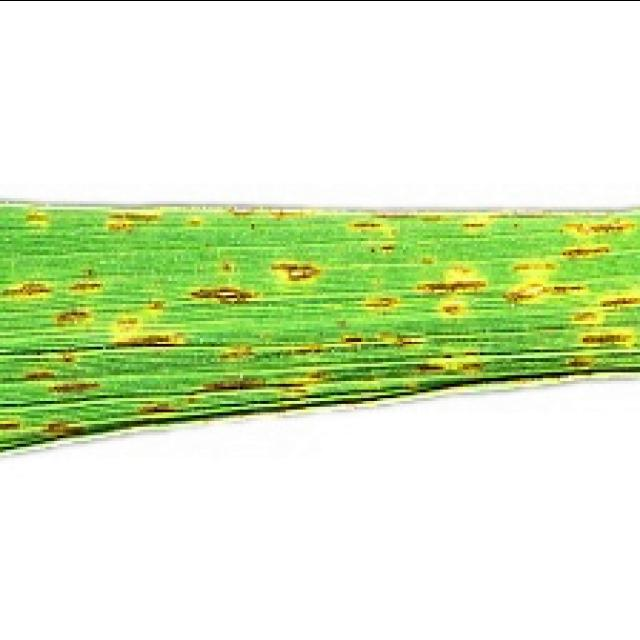Healthy: (422, 210, 441, 225)
Unhealthy: (501, 279, 588, 304), (416, 347, 481, 372), (270, 369, 329, 394), (564, 217, 637, 237), (184, 287, 258, 305), (204, 372, 267, 391), (113, 332, 183, 346), (414, 279, 484, 293), (271, 261, 321, 280), (108, 212, 158, 230), (578, 332, 634, 348), (39, 421, 87, 439), (561, 242, 611, 258), (379, 330, 427, 346), (597, 294, 640, 310), (3, 281, 50, 295), (54, 309, 90, 327), (50, 380, 99, 392), (137, 401, 182, 414), (561, 352, 595, 368), (363, 296, 397, 310), (268, 209, 313, 219), (571, 309, 599, 325), (219, 347, 253, 359), (286, 343, 324, 353), (373, 211, 418, 219), (511, 262, 555, 270), (65, 283, 103, 292), (115, 317, 138, 331), (450, 263, 475, 275), (441, 303, 464, 316), (229, 206, 256, 217), (27, 371, 54, 380), (350, 221, 379, 229), (0, 420, 22, 430), (27, 213, 48, 222), (344, 334, 361, 343), (461, 222, 486, 228), (511, 377, 532, 384), (147, 302, 164, 310), (62, 351, 74, 361), (543, 374, 561, 380), (221, 261, 230, 271), (189, 219, 199, 228), (380, 245, 392, 252), (422, 257, 433, 264), (248, 223, 256, 230)
